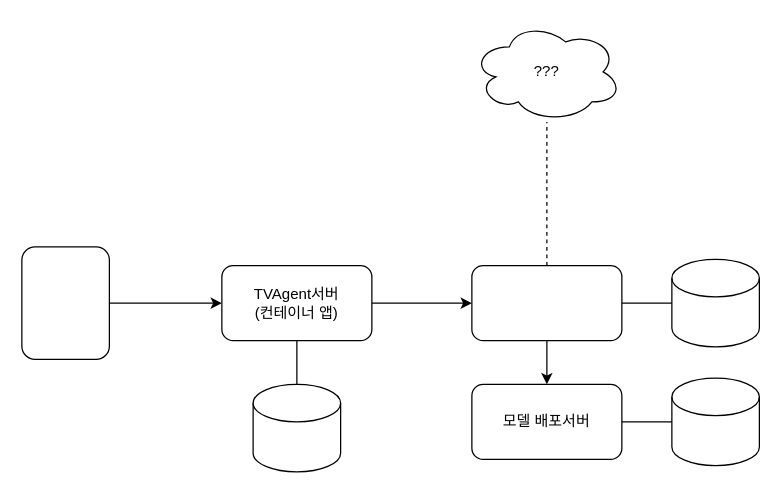
Image size: 781x494. Some labels were removed from this diagram. The shapes that lost their labels are listed below. From the top down, each one's box as (x1, y1, x2, y2) in pixels, then its label:
(21, 246, 109, 359): 단말
(471, 264, 622, 341): KIMElectra 학습서버 (Azure Machine Learning)
